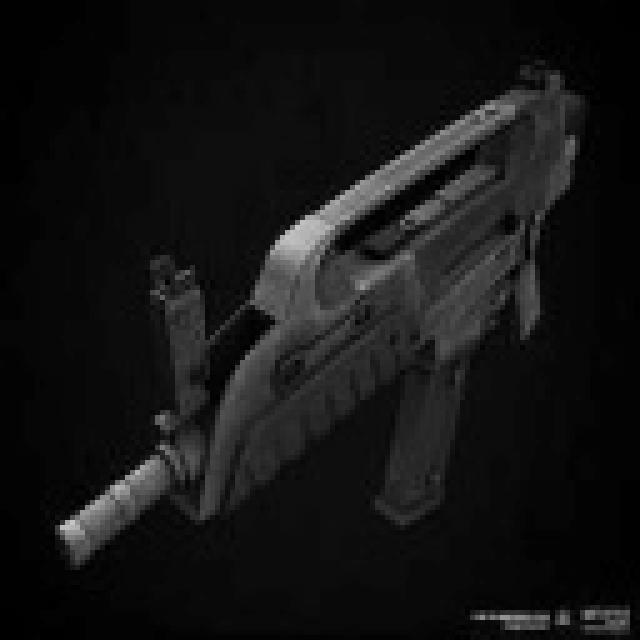Rifle: (11, 37, 640, 572)
